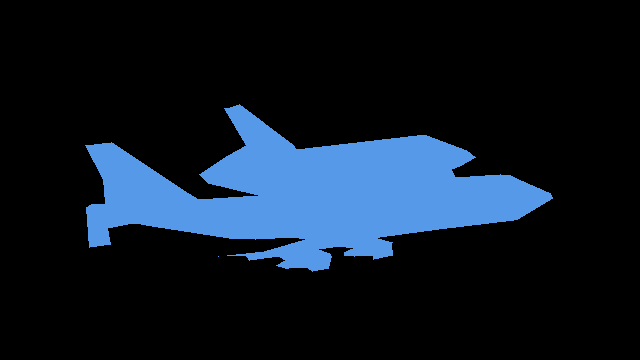Airplane: (85, 104, 552, 271)
